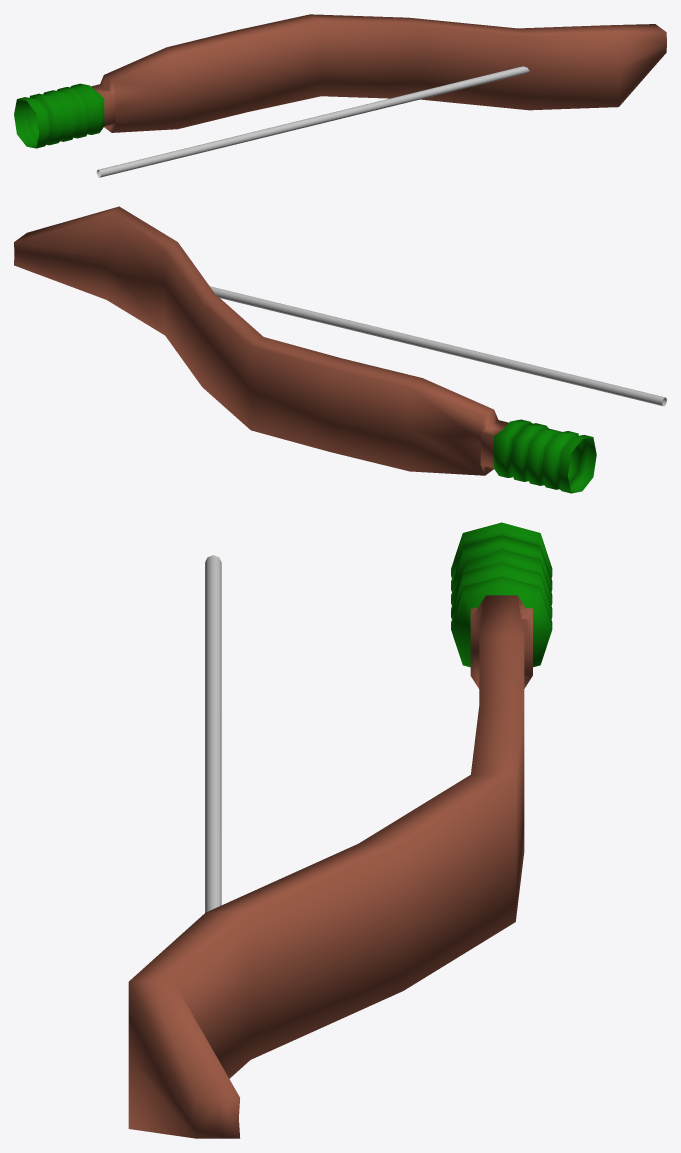
File: EnemyBow.fbx
The picture shows the model from 3 angles, top to bottom: view 1: azimuth 30°, elevation 25°; view 2: azimuth 150°, elevation 25°; view 3: azimuth 270°, elevation 25°; orthographic projection. The views are drawn at different scales.
Parts seen in each view (by area): view 1: Bow; view 2: Bow; view 3: Bow.
Part boxes in pixels (x1=…): Bow: x1=14, y1=14, x2=666, y2=177; Bow: x1=14, y1=206, x2=666, y2=493; Bow: x1=128, y1=522, x2=552, y2=1138.
Size of the model in its own units: 114 by 14.23 by 37.07.
